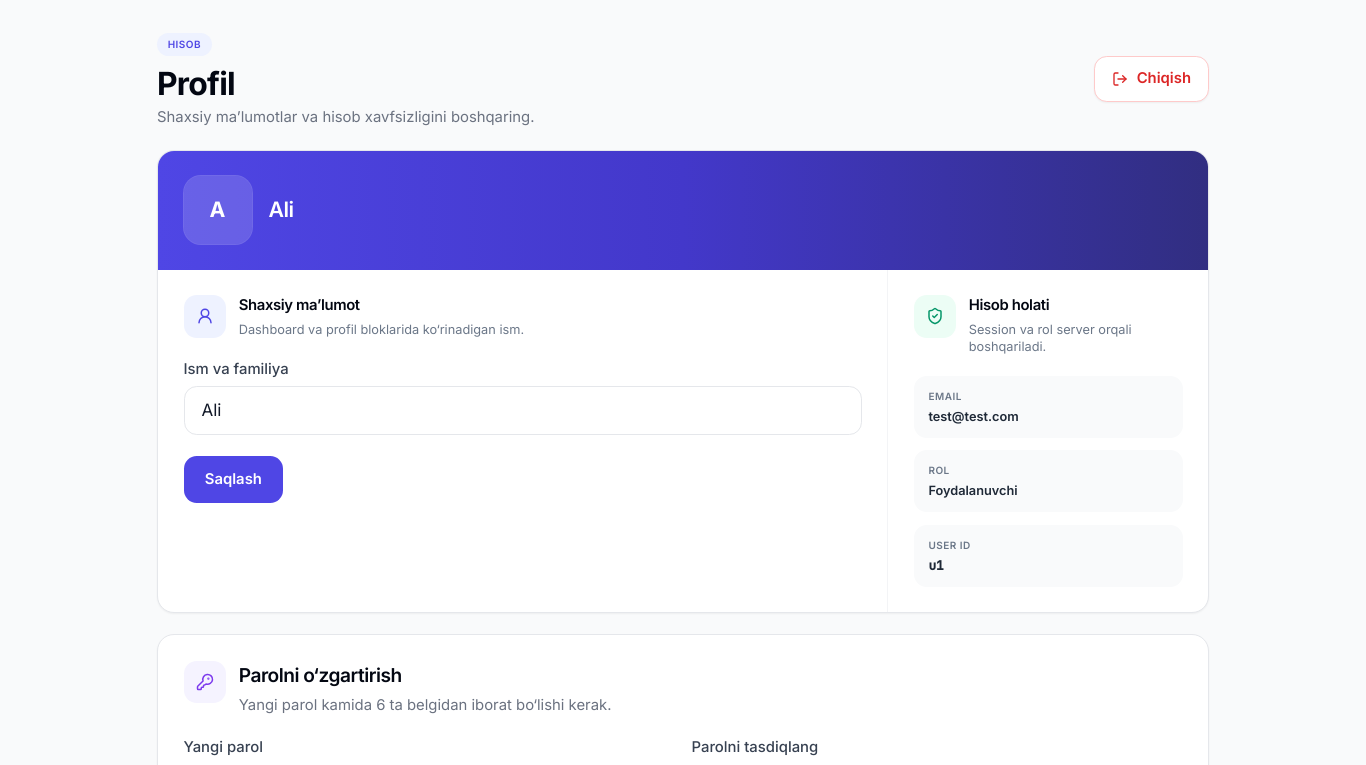
it: Profile sahifasi › ism juda qisqa bo'lsa validatsiya xatosi: updateProfile chaqirilmaydi
Replace the text in the field labelled "Ism va familiya" with "A". click: (522, 411)
box: [184,386,862,435]
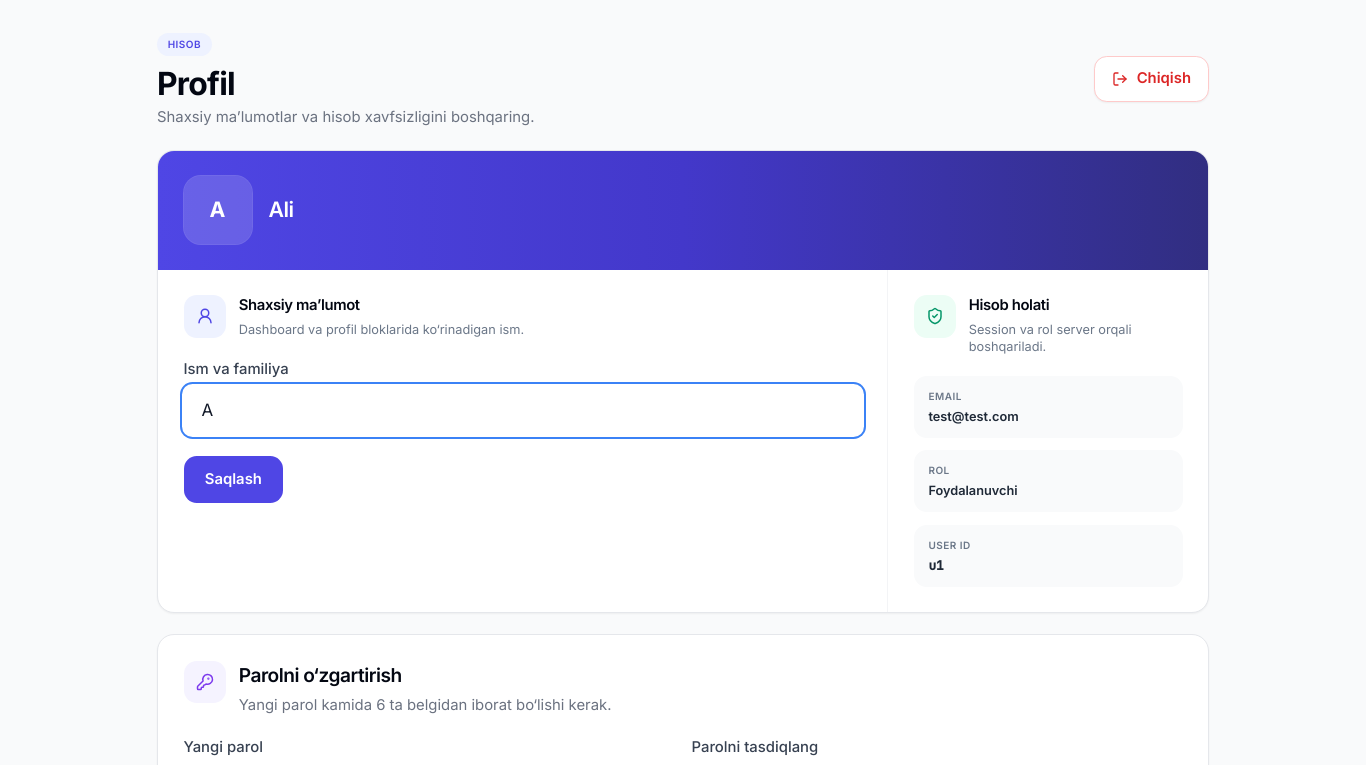
Click the button "Saqlash". click: (233, 480)
box: [184,456,283,503]
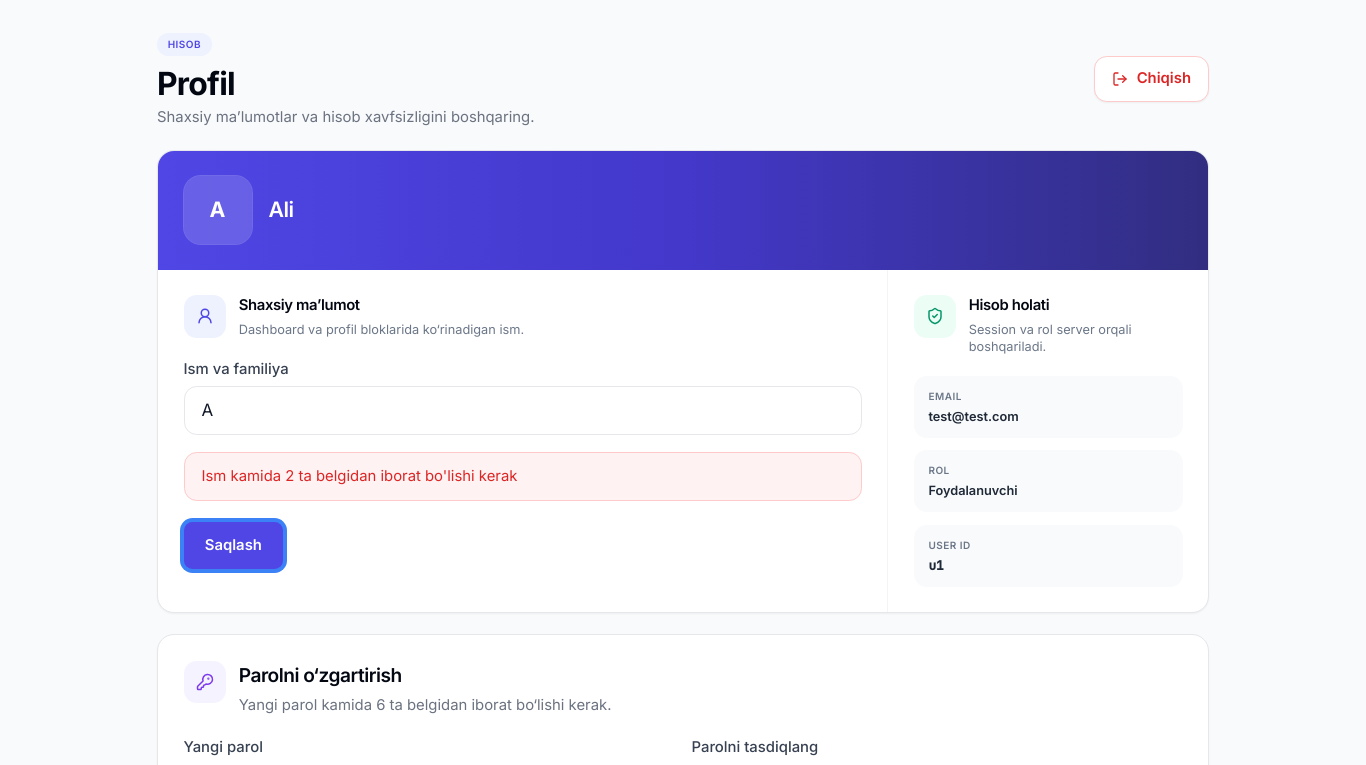
Now the text "Ism kamida 2 ta belgidan iborat bo'lishi kerak" is shown, box [184,452,862,501]
